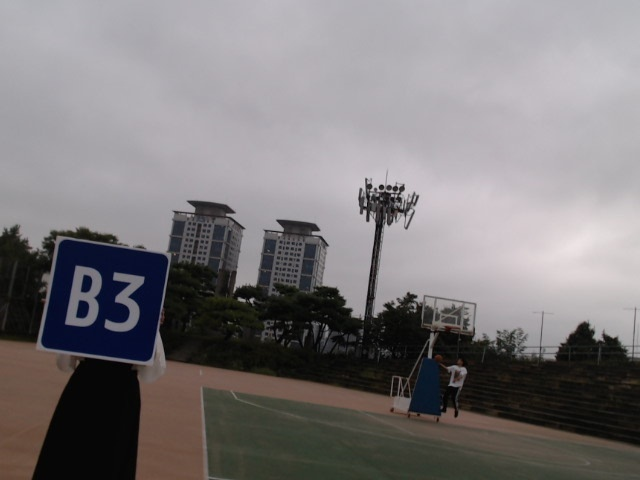delivery_b3: (37, 235, 171, 366)
